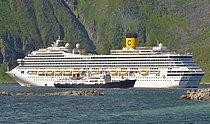Ship: (7, 30, 210, 90)
